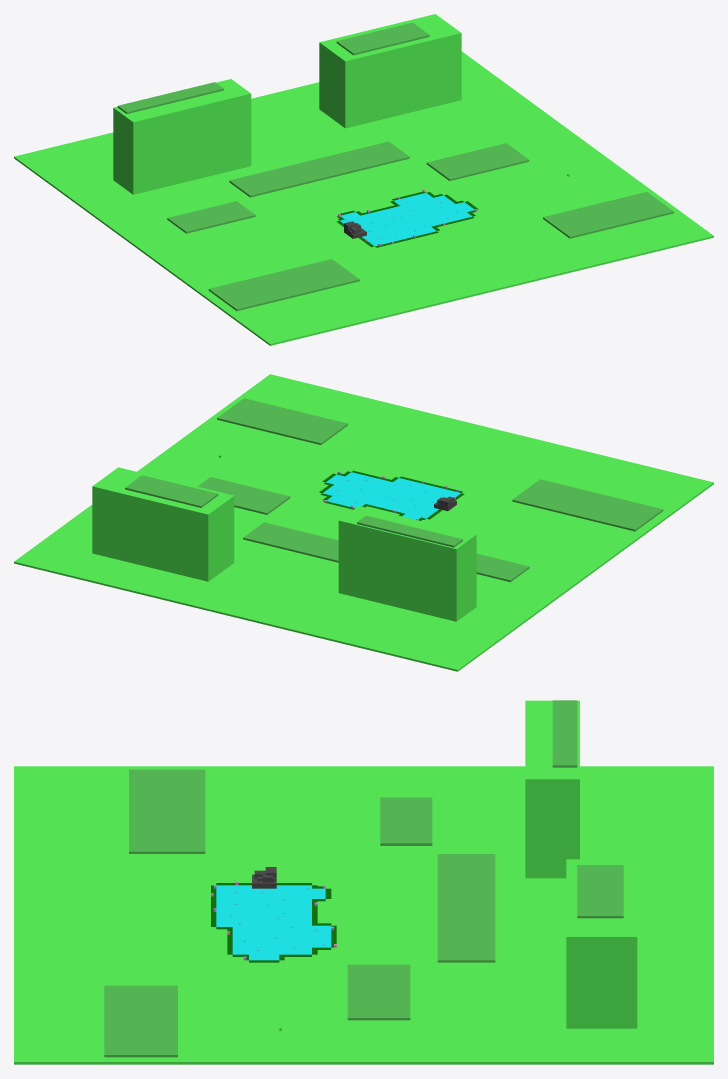
File: escenario.glb
3 renders of one model, top to bottom at view 1: azimuth 30°, elevation 25°; view 2: azimuth 150°, elevation 25°; view 3: azimuth 270°, elevation 25°, orthographic. The views are drawn at different scales.
Visible parts, largest first — view 1: Node1; view 2: Node1; view 3: Node1.
Boxes of the visible parts, x1,y1,x2,y2 form: Node1: (14,14,713,345); Node1: (14,374,713,671); Node1: (14,700,713,1064).
Bounding box in the file's own units: 25.6 × 4.2 × 25.6.
1 material, 1 textured.
